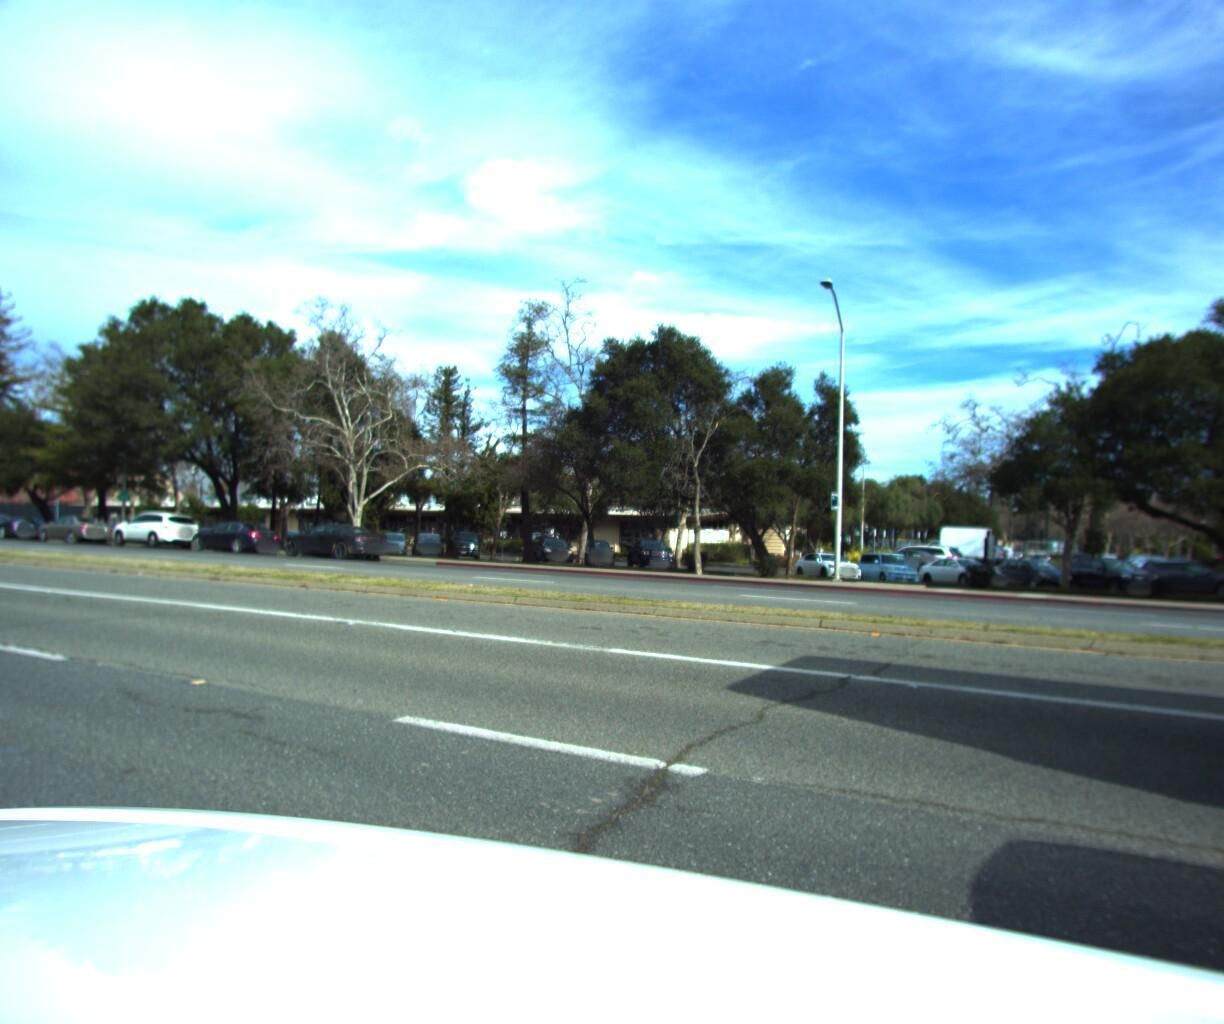car: (272, 515, 395, 558), (102, 504, 202, 548), (181, 513, 287, 552), (30, 509, 118, 542), (0, 507, 47, 538)
